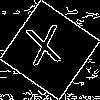X: (25, 25, 66, 76)
